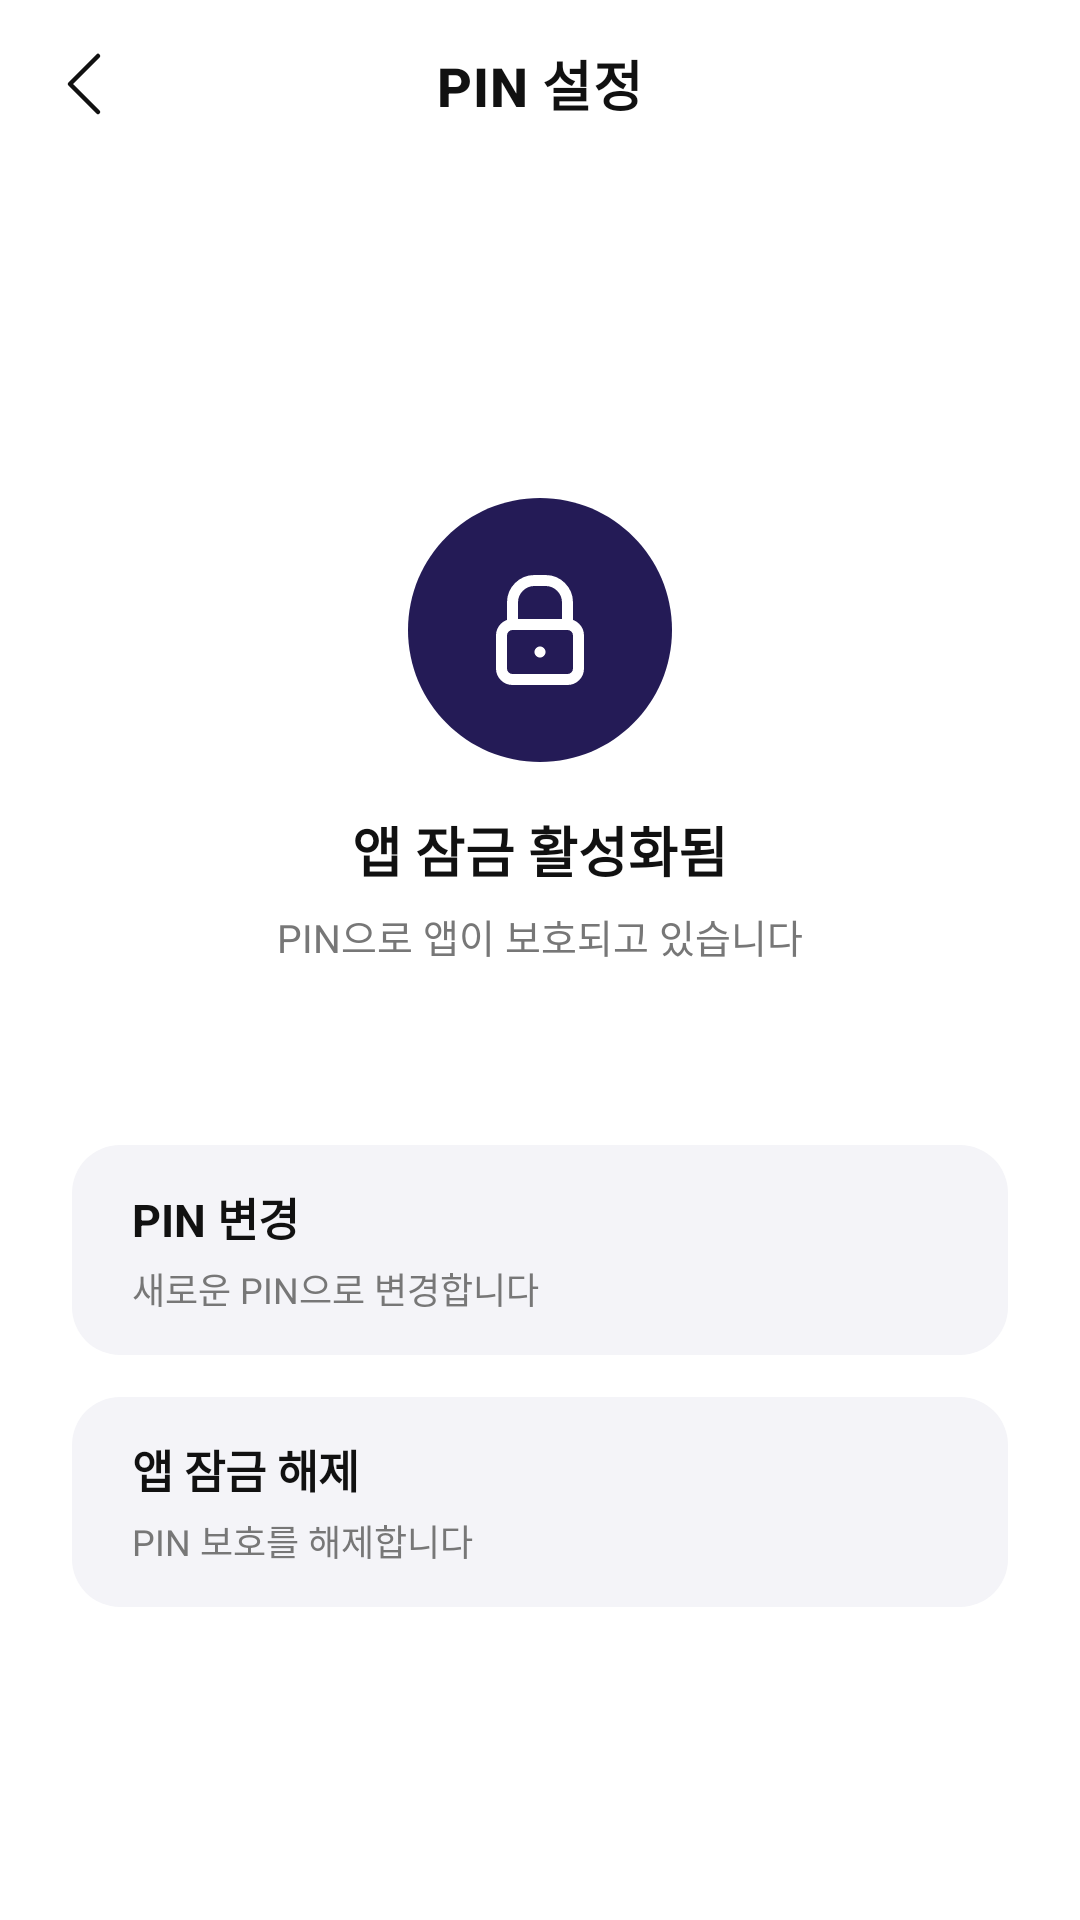

Where to tap for icons on this 1080px×1920px app screen, as (x,y):
pin lock: (540,630)
